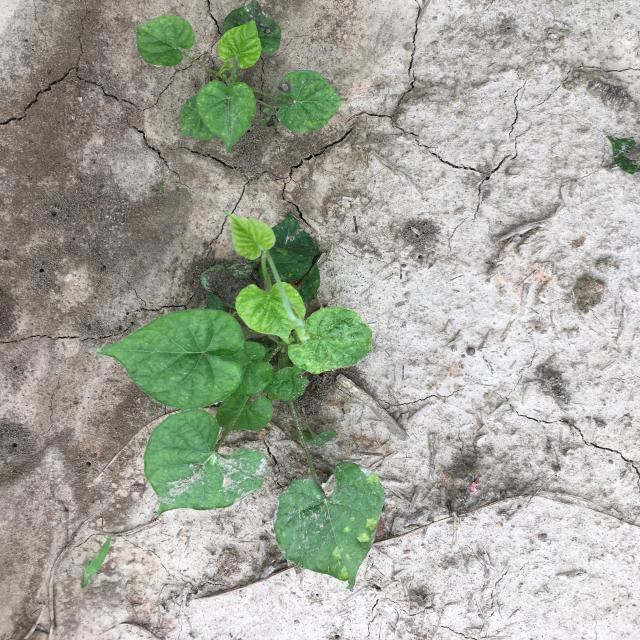MorningGlory: (93, 212, 385, 590), (136, 0, 347, 154)
